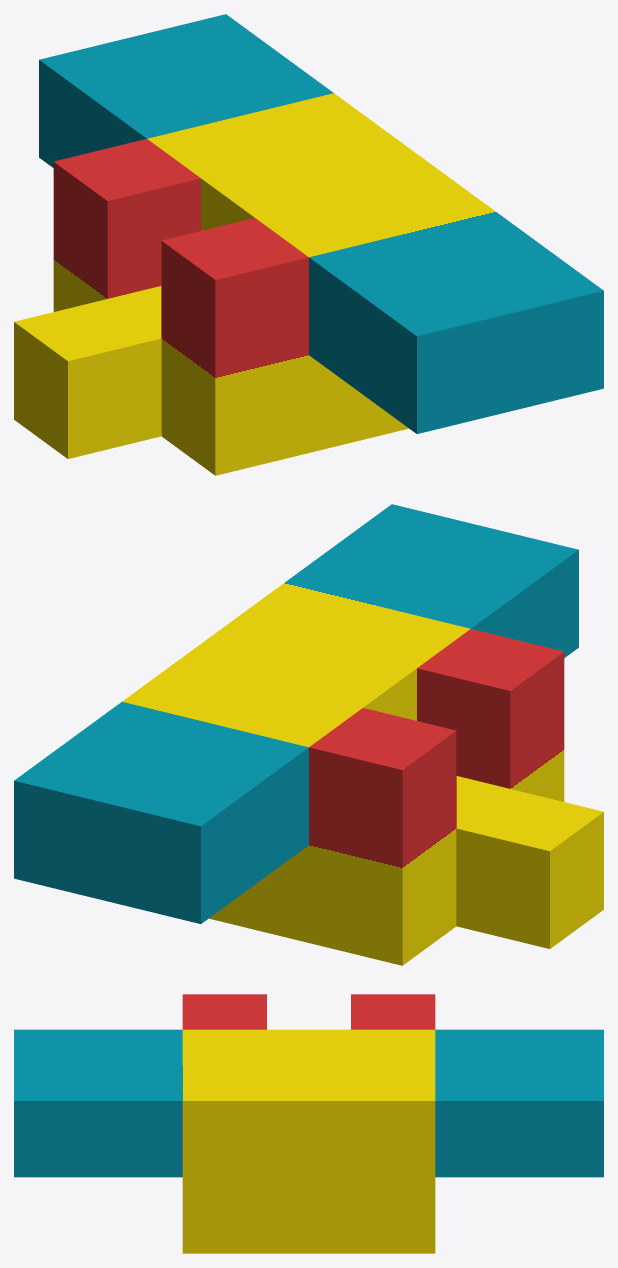
File: mouche.dae
3 views of the same model, one above another, from view 1: azimuth 30°, elevation 25°; view 2: azimuth 150°, elevation 25°; view 3: azimuth 270°, elevation 25° (orthographic). The views are drawn at different scales.
Visible parts, largest first — view 1: xp; view 2: xp; view 3: xp.
Boxes of the visible parts, x1,y1,x2,y2 form: xp: (14, 14, 603, 475); xp: (14, 504, 603, 965); xp: (14, 994, 603, 1253).
Size of the model in its own units: 4 by 2 by 7.
Materials: 1 (1 with a texture image).
